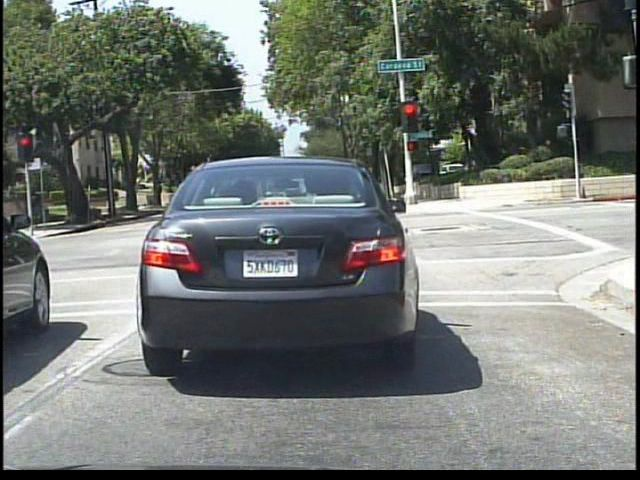person: (27, 184, 48, 231)
